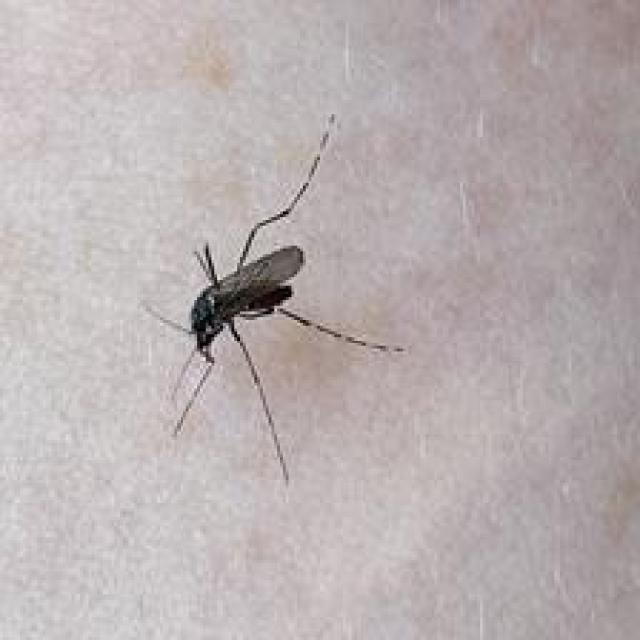Aedes albopictus: (140, 111, 409, 486)
